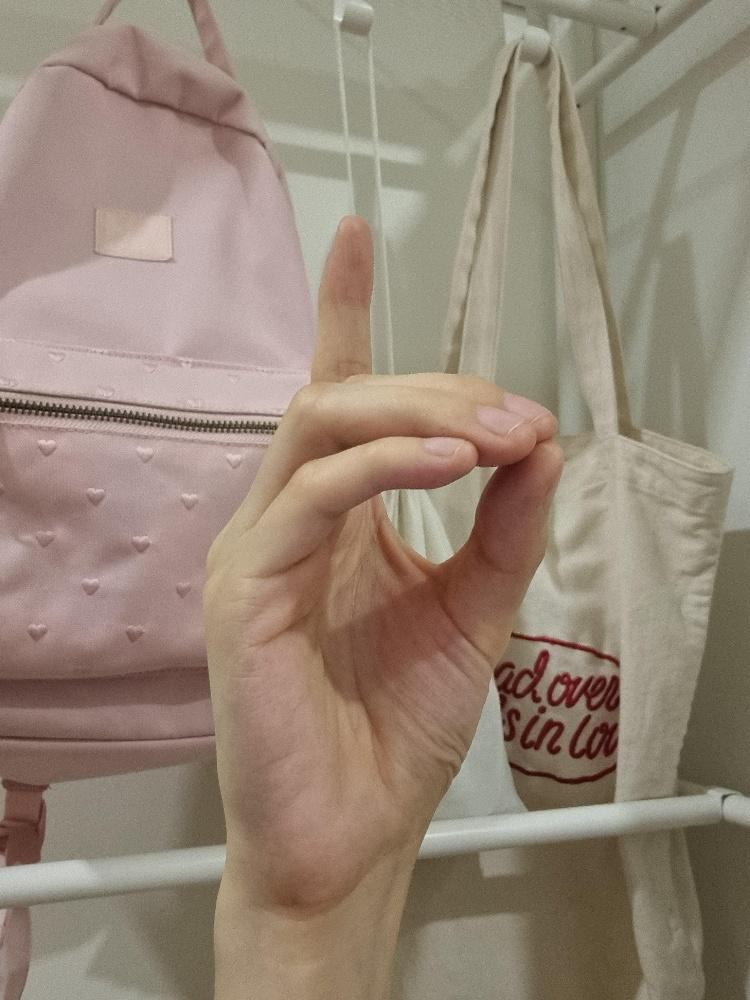d: (198, 208, 566, 921)
